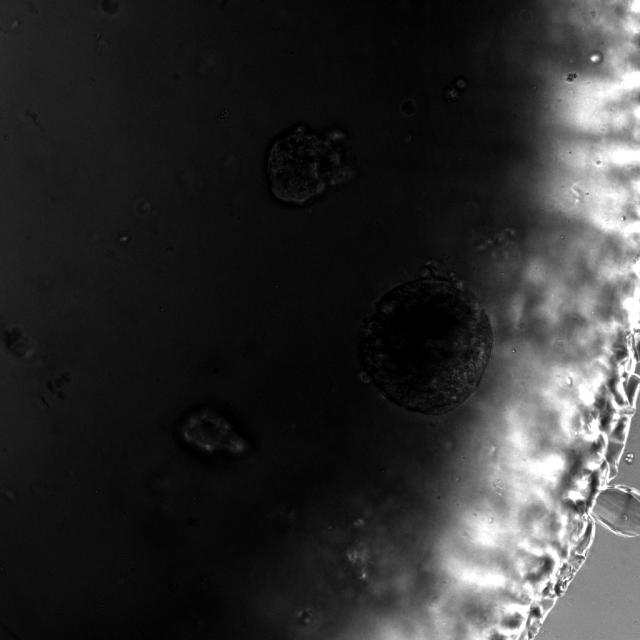organoid: (359, 261, 492, 415), (266, 125, 354, 205), (177, 408, 246, 457), (4, 328, 31, 357), (101, 0, 118, 14)
